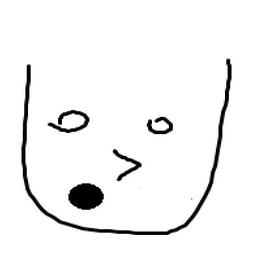empty_eye: (48, 108, 94, 141), (144, 112, 177, 140)
open_mouth: (67, 181, 108, 217)
pointy_nose: (103, 138, 142, 180)
